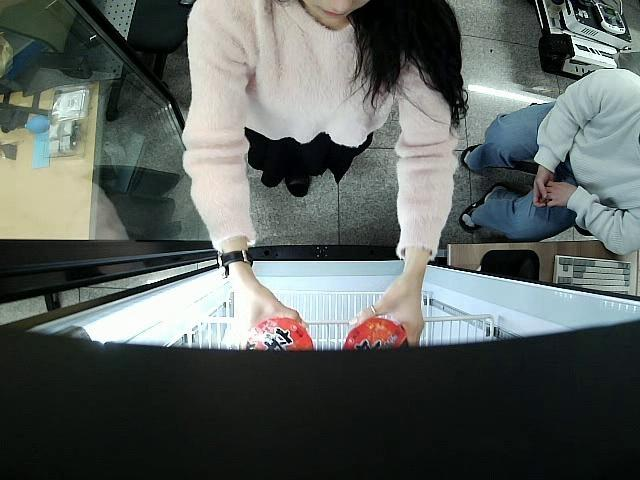02_shinRamen_S: (248, 316, 314, 354), (342, 317, 411, 352)
